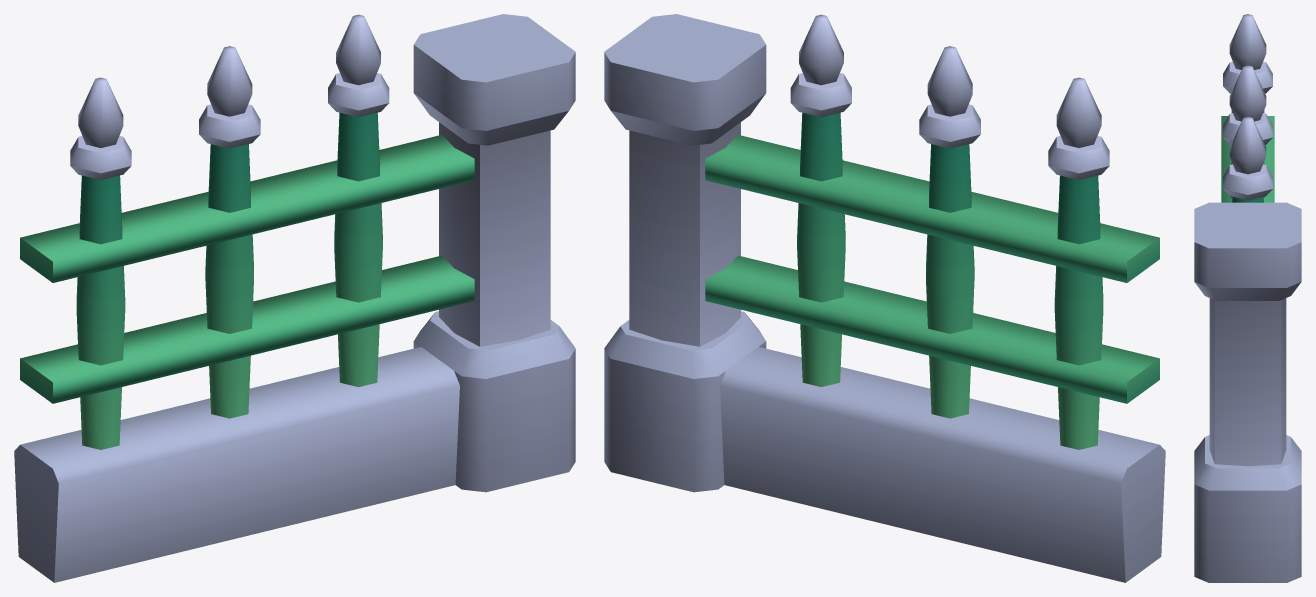
File: iron-fence-border-column.glb
The picture shows the model from 3 angles, left to right: view 1: azimuth 30°, elevation 25°; view 2: azimuth 150°, elevation 25°; view 3: azimuth 270°, elevation 25°; orthographic projection. The views are drawn at different scales.
Parts seen in each view (by area): view 1: iron-fence-border-column; view 2: iron-fence-border-column; view 3: iron-fence-border-column.
Boxes of the visible parts, x1=… form: iron-fence-border-column: x1=14, y1=14, x2=575, y2=582; iron-fence-border-column: x1=604, y1=14, x2=1165, y2=582; iron-fence-border-column: x1=1194, y1=14, x2=1301, y2=582.
Bounding box in the file's own units: 1 × 0.8789 × 0.2215.
Materials: 1 (1 with a texture image).
